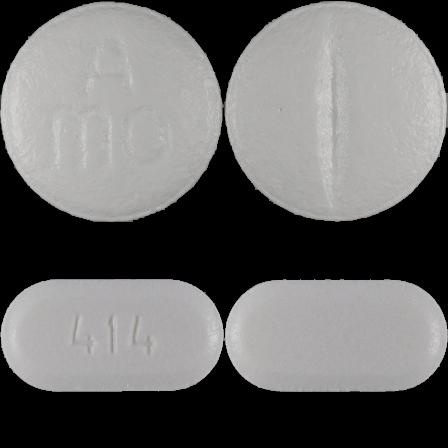55154-5026: (0, 0, 224, 224)
